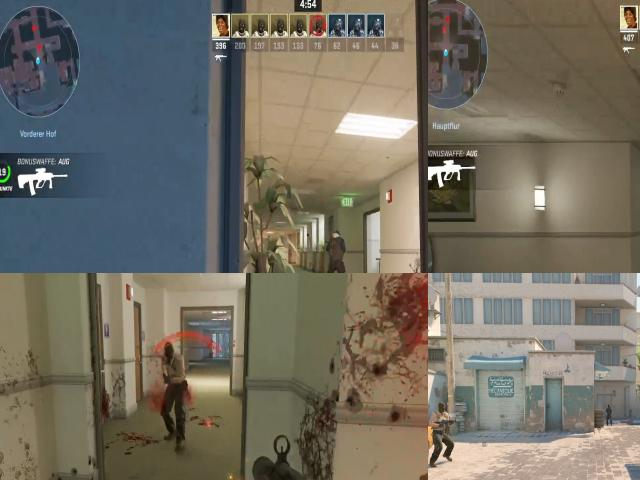CT: (327, 226, 346, 273), (606, 403, 612, 423)
CT-Head: (332, 226, 341, 242), (608, 404, 610, 410)
T: (164, 342, 188, 390), (436, 403, 447, 465)
T-Head: (163, 343, 177, 364), (438, 403, 446, 414)
